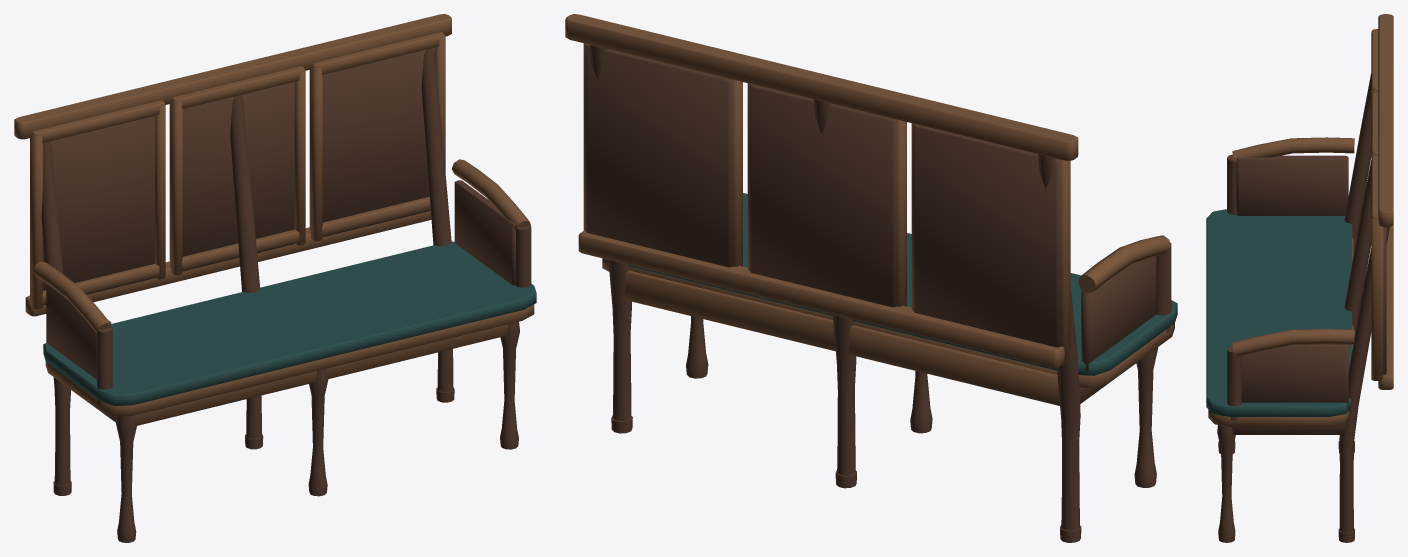
File: rpg-mansion-hall-settle-01.glb
3 views of the same model, side by side, from view 1: azimuth 30°, elevation 25°; view 2: azimuth 150°, elevation 25°; view 3: azimuth 270°, elevation 25° (orthographic). The views are drawn at different scales.
Parts seen in each view (by area): view 1: rpg-mansion-hall-settle-01; view 2: rpg-mansion-hall-settle-01; view 3: rpg-mansion-hall-settle-01.
Part boxes in pixels (x1,y1,x2,y2): rpg-mansion-hall-settle-01: (14, 14, 536, 542); rpg-mansion-hall-settle-01: (565, 14, 1177, 542); rpg-mansion-hall-settle-01: (1206, 14, 1393, 542).
Size of the model in its own units: 1.36 by 1.08 by 0.541.
